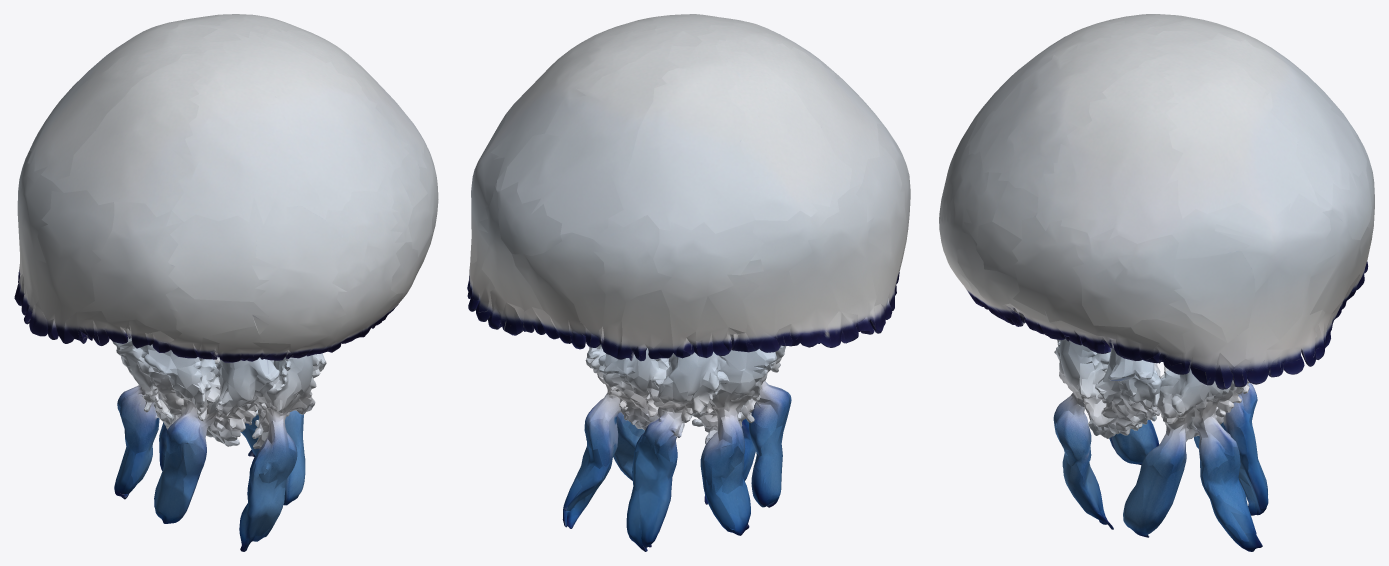
File: haepai.glb
3 renders of one model, left to right at view 1: azimuth 30°, elevation 25°; view 2: azimuth 150°, elevation 25°; view 3: azimuth 270°, elevation 25°, orthographic.
Parts seen in each view (by area): view 1: output_unwrapped; view 2: output_unwrapped; view 3: output_unwrapped.
Part boxes in pixels (x1=…): output_unwrapped: x1=14, y1=14, x2=438, y2=551; output_unwrapped: x1=467, y1=14, x2=910, y2=551; output_unwrapped: x1=939, y1=14, x2=1374, y2=551.
Bounding box in the file's own units: 1.54 × 1.9 × 1.53.
Materials: 1 (1 with a texture image).
